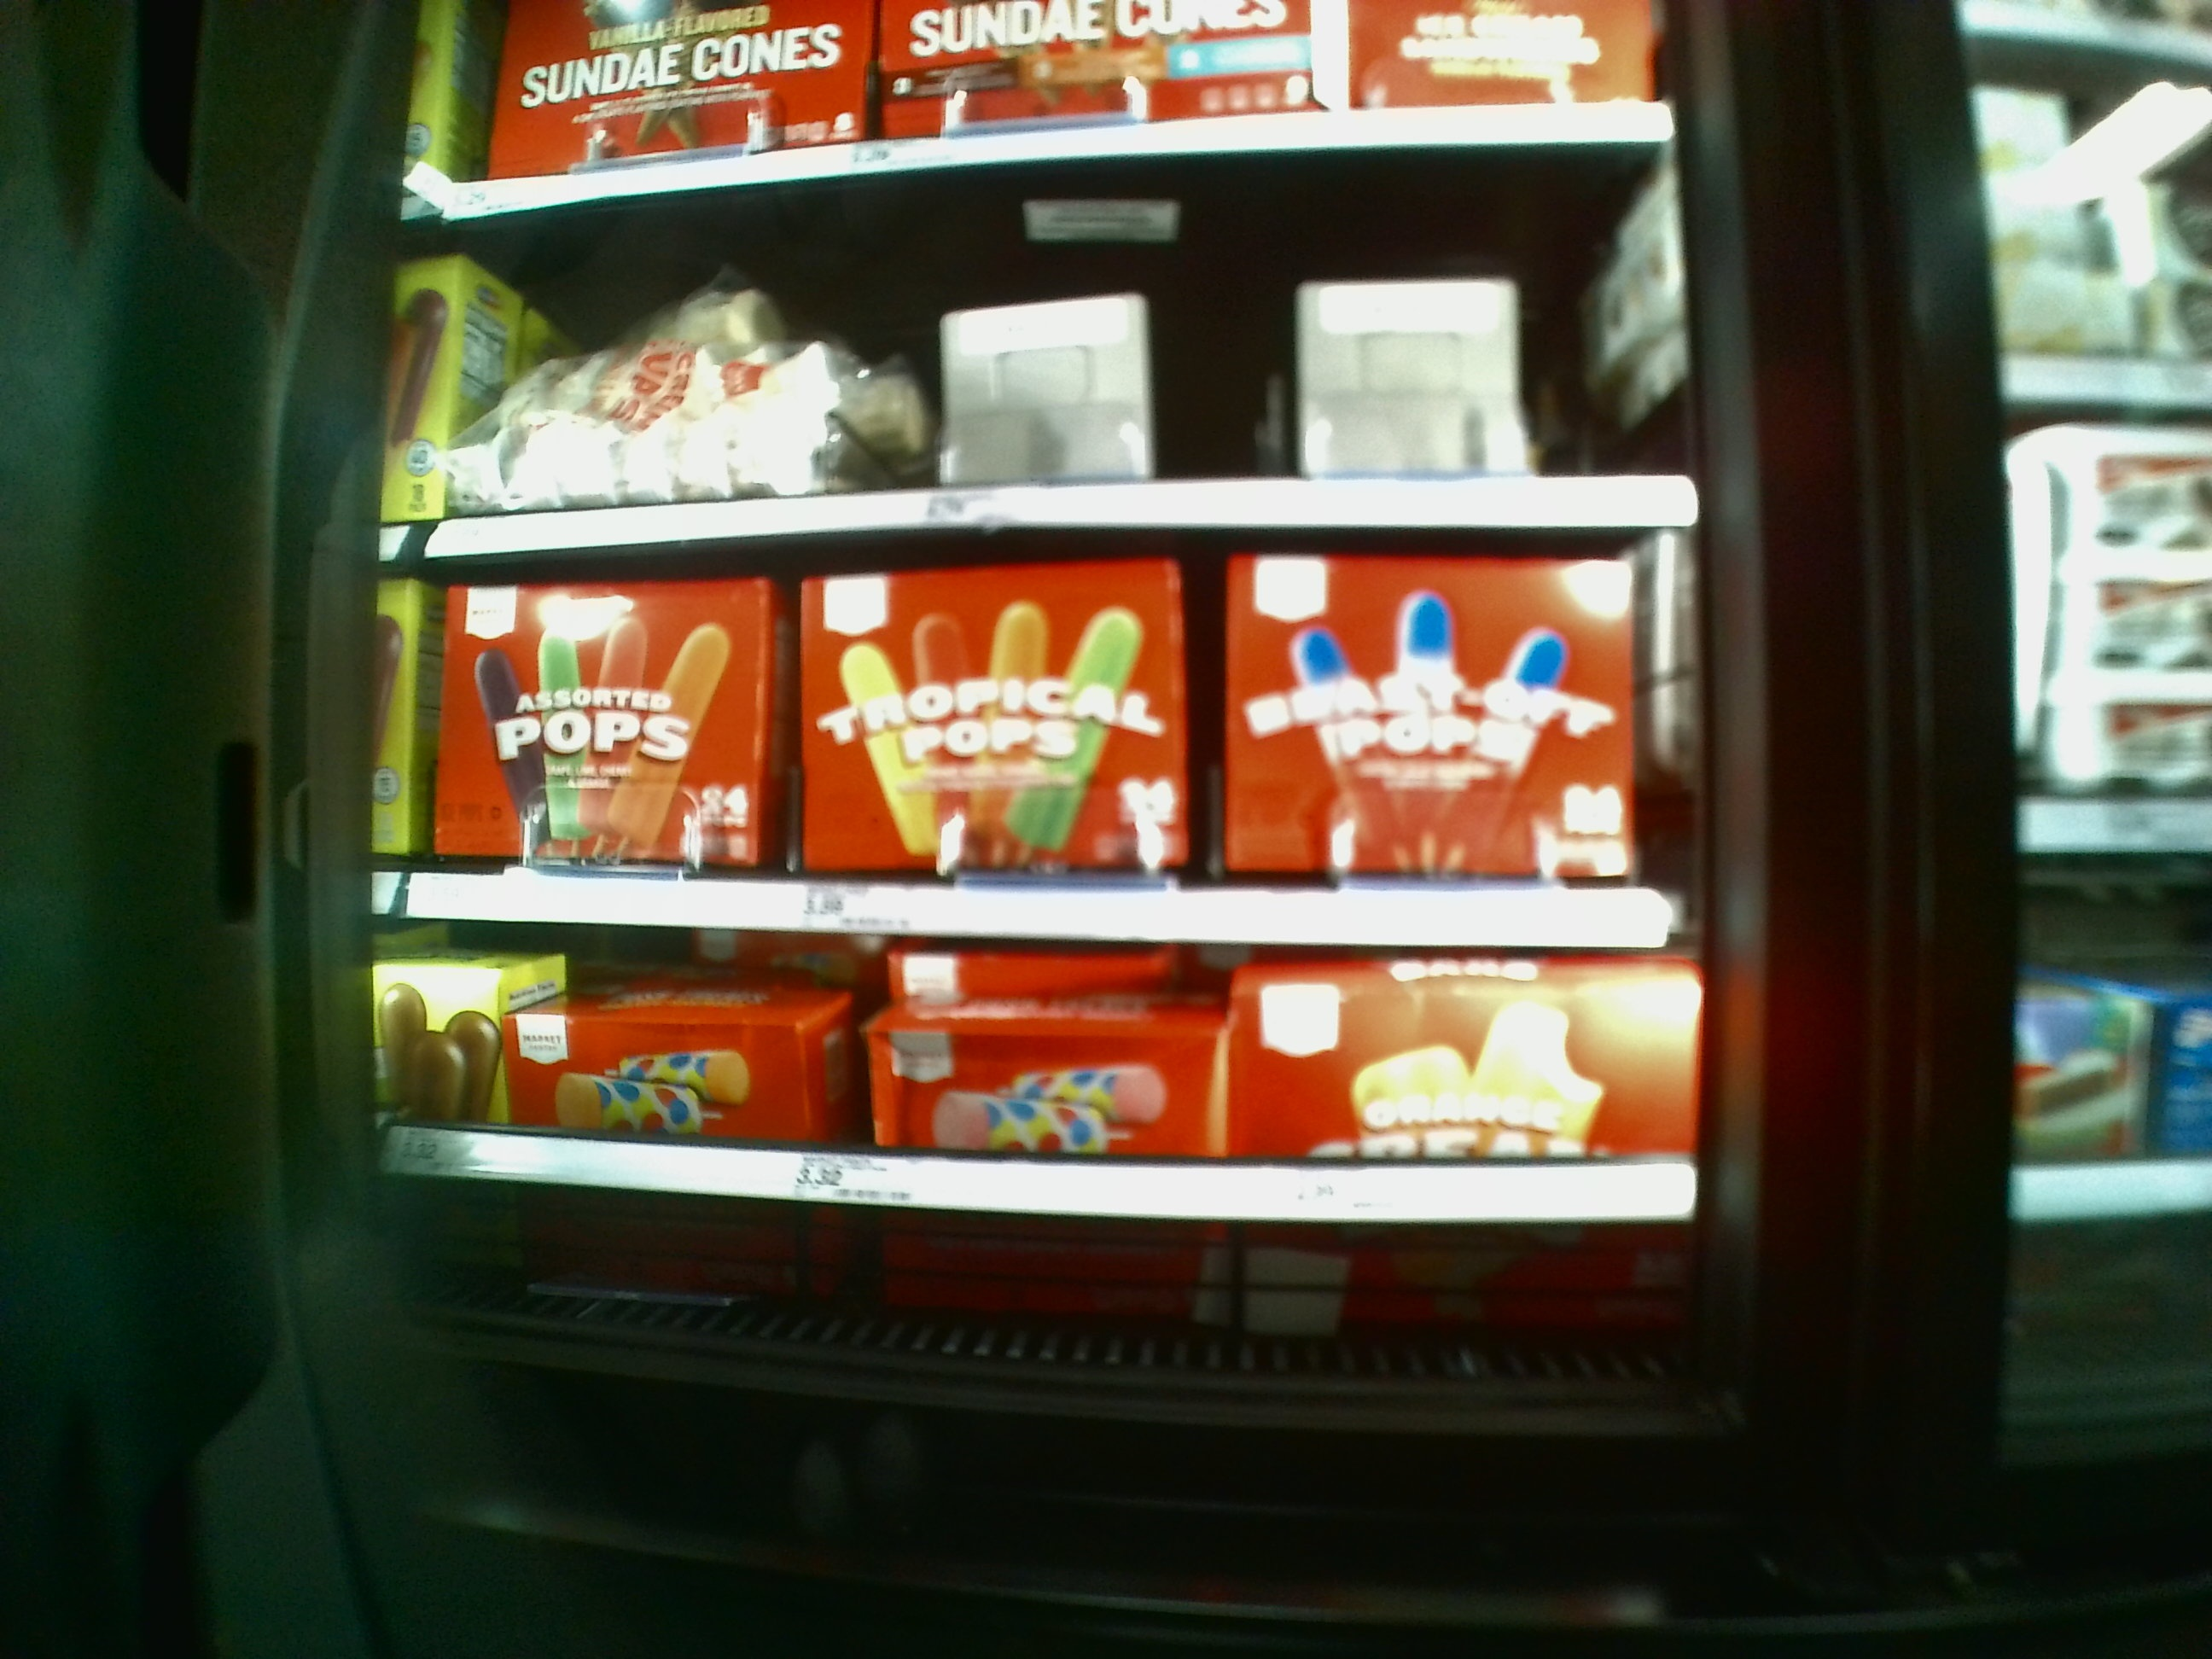shelf: (409, 929, 1698, 1382), (423, 152, 1688, 551), (418, 563, 1674, 955)
